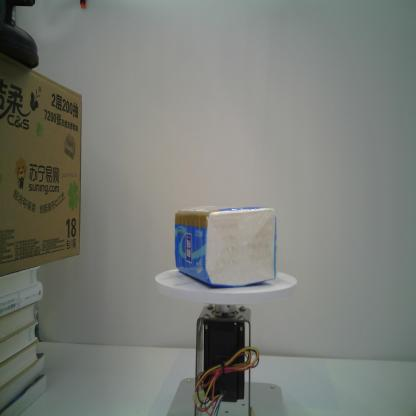Tissue: (172, 203, 278, 289)
